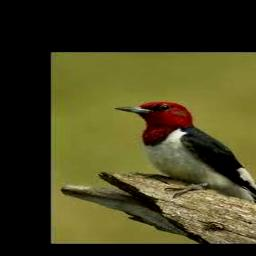Woodpecker: (114, 101, 256, 207)
